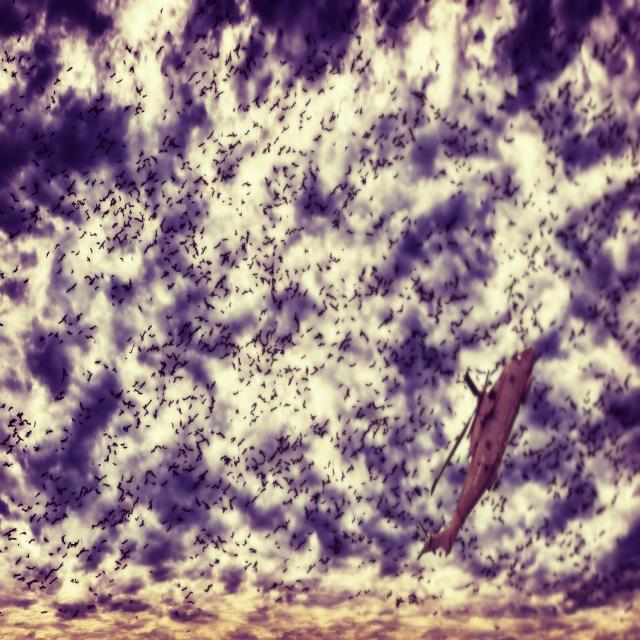airplane: (416, 344, 536, 561)
